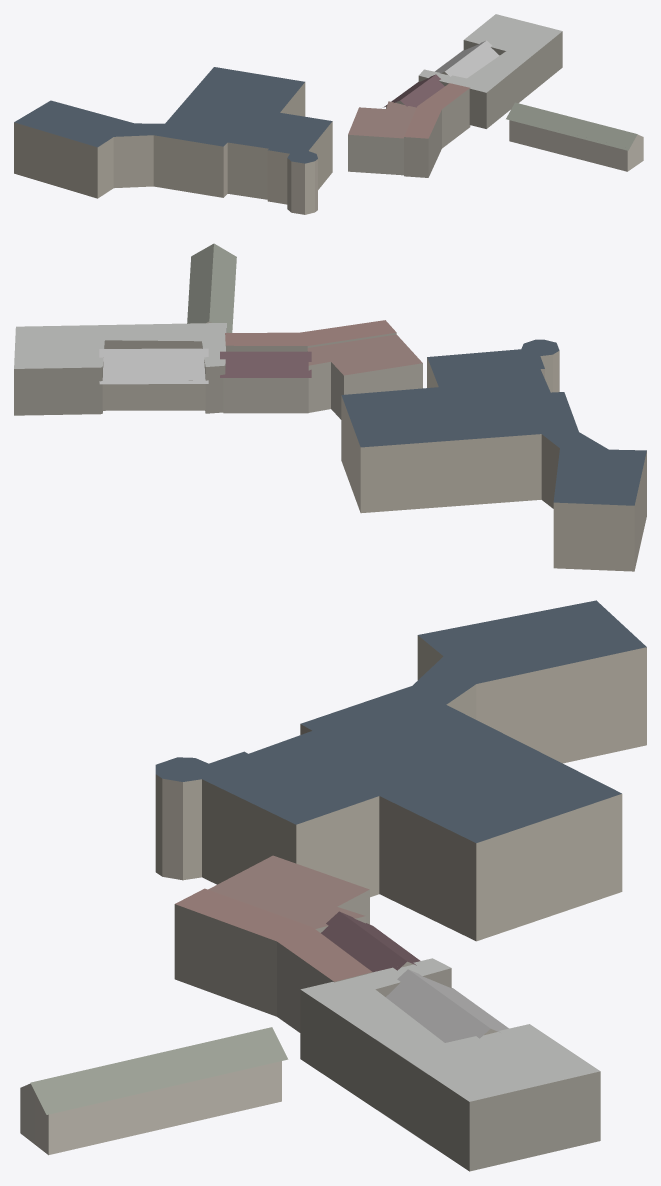
3 views of the same model, one above another, from view 1: azimuth 30°, elevation 25°; view 2: azimuth 150°, elevation 25°; view 3: azimuth 270°, elevation 25° (orthographic). The views are drawn at different scales.
Parts seen in each view (by area): view 1: tuile; view 2: tuile; view 3: tuile.
Part boxes in pixels (x1=…): tuile: x1=14, y1=14, x2=643, y2=214; tuile: x1=14, y1=243, x2=646, y2=571; tuile: x1=20, y1=600, x2=646, y2=1171.
Bounding box in the file's own units: 83.5 × 8.11 × 46.37.
